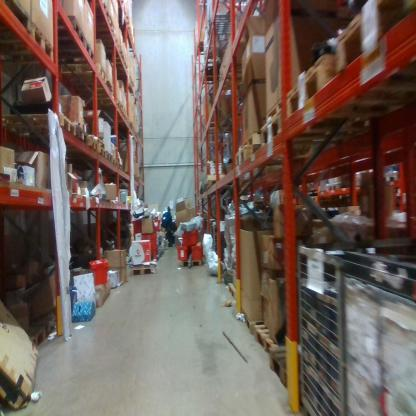pallets: (236, 0, 416, 181), (224, 285, 290, 388), (52, 110, 128, 173), (0, 1, 57, 64), (54, 8, 102, 69), (128, 261, 158, 275)
